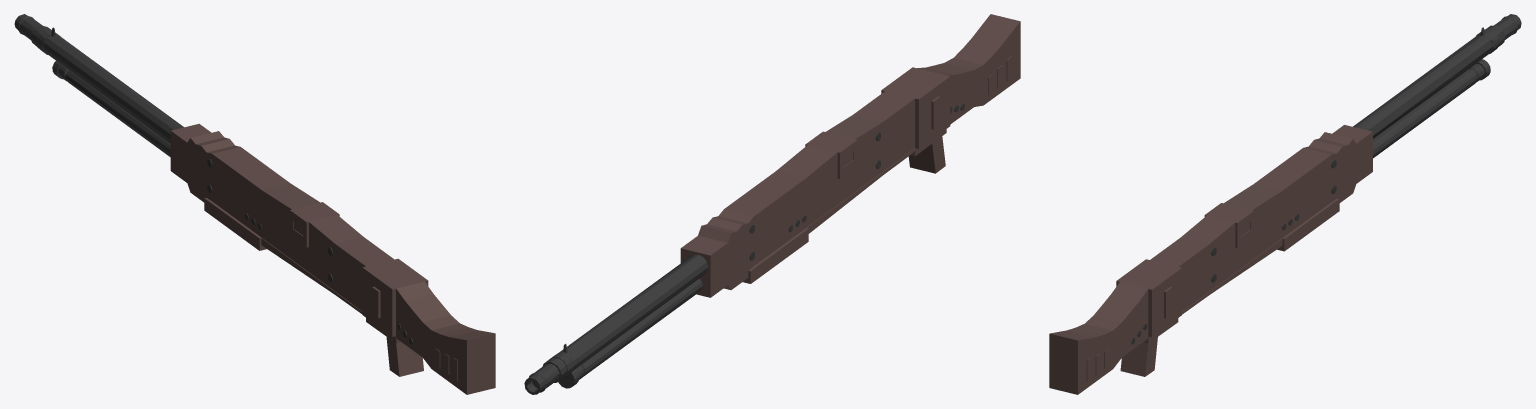
The model's file is kellymachinegun2.fbx.
The picture shows the model from 3 angles, left to right: view 1: azimuth 30°, elevation 25°; view 2: azimuth 150°, elevation 25°; view 3: azimuth 330°, elevation 25°; orthographic projection. The views are drawn at different scales.
Parts seen in each view (by area): view 1: Cube.001; view 2: Cube.001; view 3: Cube.001.
Boxes of the visible parts, box(x1,y1,x2,y2) form: Cube.001: box(14, 14, 495, 394); Cube.001: box(524, 14, 1020, 394); Cube.001: box(1049, 14, 1521, 394).
Size of the model in its own units: 17.91 by 38.77 by 352.
